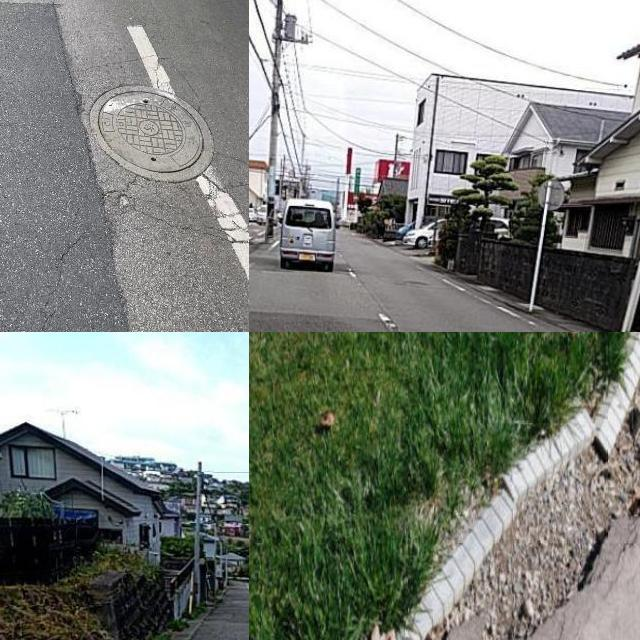Lubang: (94, 88, 217, 181)
Pinggir: (357, 332, 640, 640)
Sambungan: (0, 0, 129, 332)
